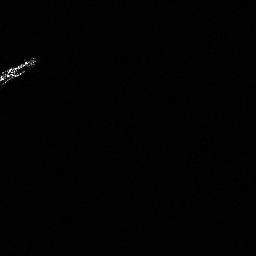ship: (1, 53, 40, 88)
